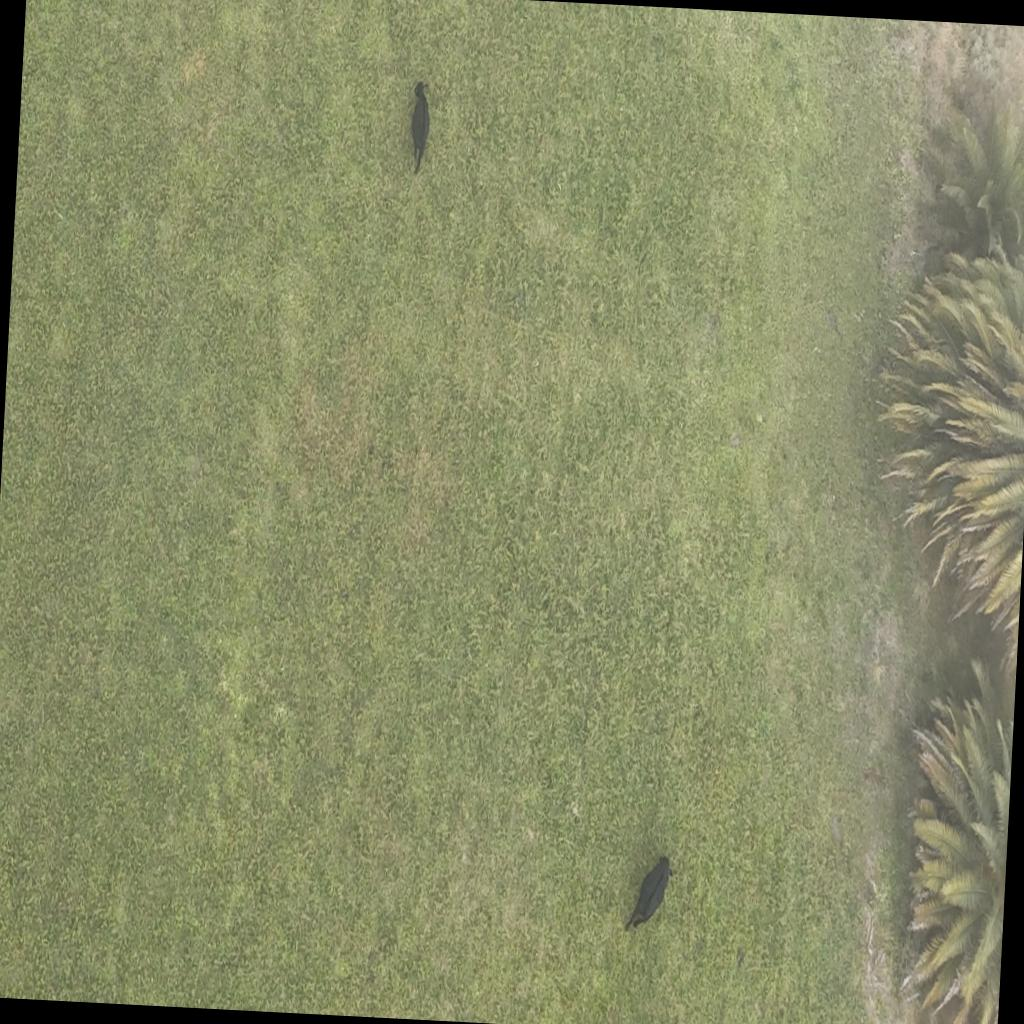cow: (620, 850, 673, 936), (404, 77, 435, 181)
